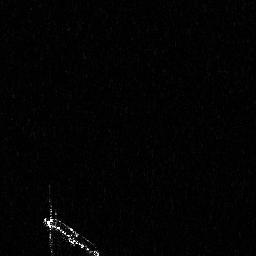ship: (41, 181, 101, 256)
